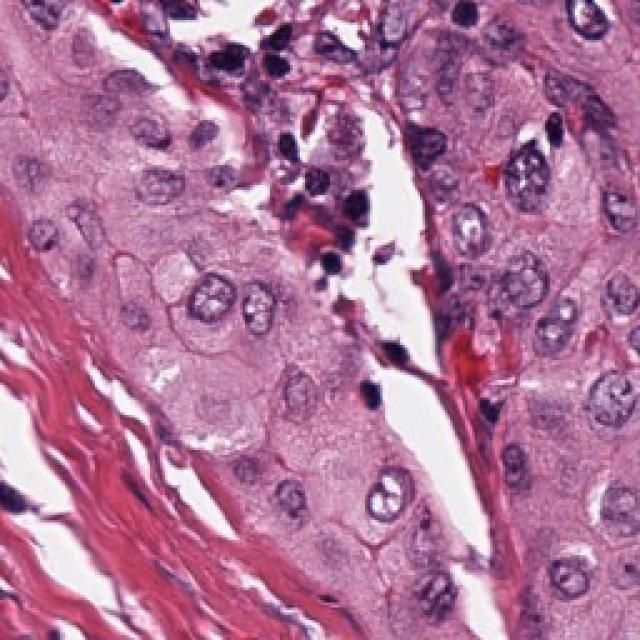abnormal: (479, 232, 581, 348), (487, 127, 586, 245), (514, 520, 614, 636), (158, 247, 265, 355), (103, 131, 209, 237), (489, 116, 575, 229), (333, 443, 424, 549), (416, 188, 514, 274), (172, 243, 252, 347), (35, 4, 125, 96), (560, 362, 640, 464), (484, 232, 581, 316), (379, 107, 473, 193), (426, 189, 502, 284), (231, 264, 305, 358), (529, 0, 639, 61), (575, 350, 640, 451), (109, 137, 191, 216), (398, 547, 467, 640), (252, 473, 341, 545), (259, 355, 324, 445), (12, 200, 80, 283), (531, 0, 621, 58), (590, 158, 640, 258)
